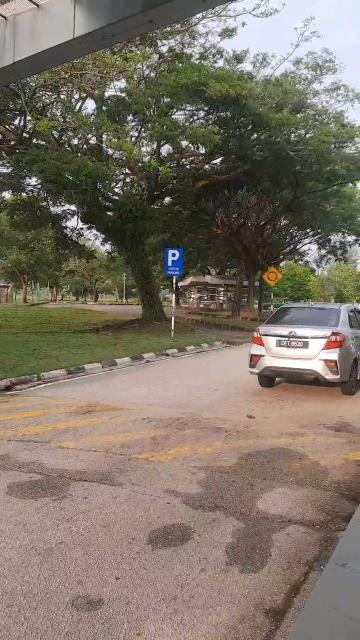License_Plate: (277, 339, 310, 352)
car: (251, 303, 360, 391)
